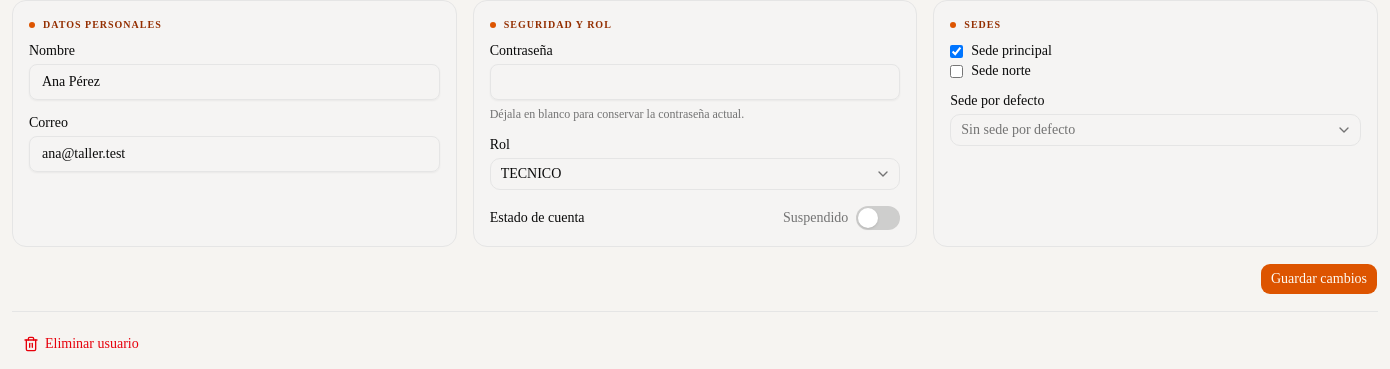
EditarUsuarioForm › pre-fills Estado de cuenta from usuario.activo, and the switch toggles it
The width and height of the screenshot is (1390, 369).
Expected: the text "Suspendido" is shown, [783,208,848,228]
Click the switch named "Estado de cuenta": (878, 218) [856,206,900,230]
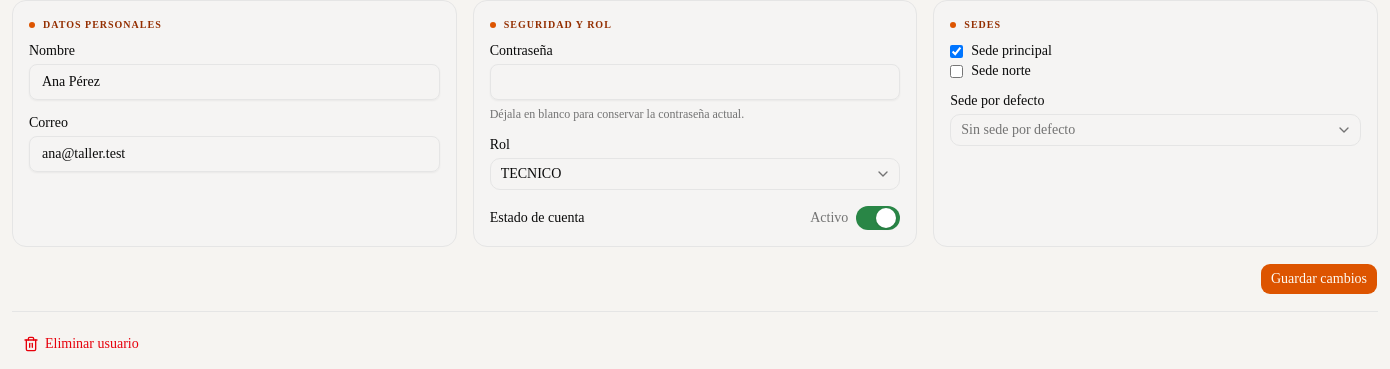
Expected: the text "Activo" is shown, [810,208,848,228]
